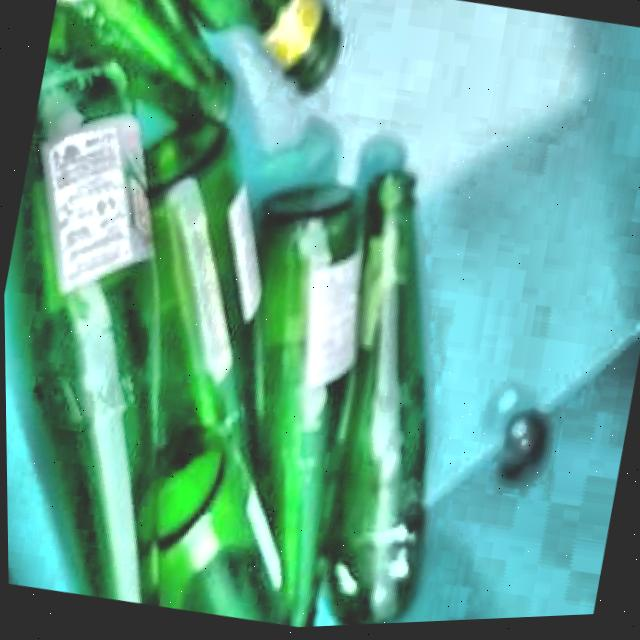glass: (8, 0, 426, 630)
